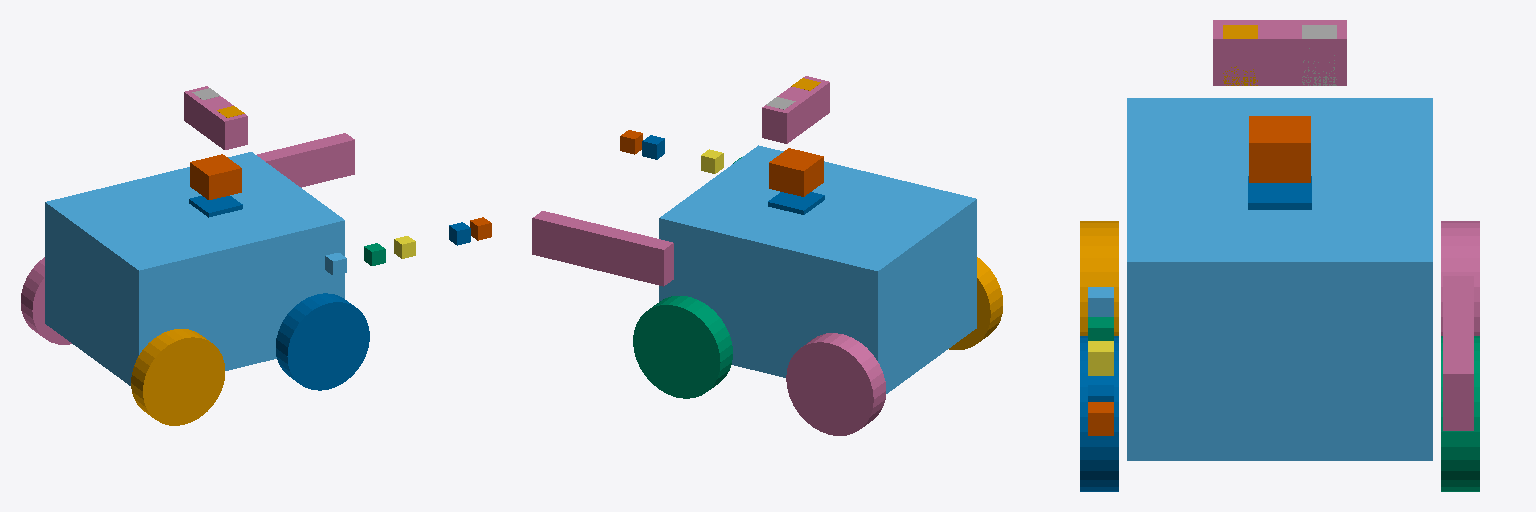
URDF robot description (ugv_01_geometry_concept):
<?xml version='1.0' encoding='utf-8'?>
<robot name="ugv_01_geometry_concept">
  <link name="base_link" />
  <link name="chassis">
    <visual>
      <geometry>
        <box size="0.3 0.236 0.169" />
      </geometry>
    </visual>
  </link>
  <joint name="chassis_joint" type="fixed">
    <parent link="base_link" />
    <child link="chassis" />
    <origin xyz="0.0 0.0 0.1255" />
  </joint>
  <link name="front_left_wheel">
    <visual>
      <origin rpy="1.5707963267948966 0 0" />
      <geometry>
        <cylinder radius="0.06" length="0.03" />
      </geometry>
    </visual>
  </link>
  <joint name="front_left_wheel_joint" type="continuous">
    <parent link="base_link" />
    <child link="front_left_wheel" />
    <origin xyz="0.105 0.139 0.06" />
    <axis xyz="0 1 0" />
  </joint>
  <link name="front_left_motor">
    <visual>
      <origin rpy="1.5707963267948966 0 0" />
      <geometry>
        <cylinder radius="0.0125" length="0.0678" />
      </geometry>
    </visual>
  </link>
  <joint name="front_left_motor_joint" type="fixed">
    <parent link="base_link" />
    <child link="front_left_motor" />
    <origin xyz="0.105 0.08009999999999999 0.06" />
  </joint>
  <link name="front_right_wheel">
    <visual>
      <origin rpy="1.5707963267948966 0 0" />
      <geometry>
        <cylinder radius="0.06" length="0.03" />
      </geometry>
    </visual>
  </link>
  <joint name="front_right_wheel_joint" type="continuous">
    <parent link="base_link" />
    <child link="front_right_wheel" />
    <origin xyz="0.105 -0.139 0.06" />
    <axis xyz="0 1 0" />
  </joint>
  <link name="front_right_motor">
    <visual>
      <origin rpy="1.5707963267948966 0 0" />
      <geometry>
        <cylinder radius="0.0125" length="0.0678" />
      </geometry>
    </visual>
  </link>
  <joint name="front_right_motor_joint" type="fixed">
    <parent link="base_link" />
    <child link="front_right_motor" />
    <origin xyz="0.105 -0.08009999999999999 0.06" />
  </joint>
  <link name="rear_left_wheel">
    <visual>
      <origin rpy="1.5707963267948966 0 0" />
      <geometry>
        <cylinder radius="0.06" length="0.03" />
      </geometry>
    </visual>
  </link>
  <joint name="rear_left_wheel_joint" type="continuous">
    <parent link="base_link" />
    <child link="rear_left_wheel" />
    <origin xyz="-0.105 0.139 0.06" />
    <axis xyz="0 1 0" />
  </joint>
  <link name="rear_left_motor">
    <visual>
      <origin rpy="1.5707963267948966 0 0" />
      <geometry>
        <cylinder radius="0.0125" length="0.0678" />
      </geometry>
    </visual>
  </link>
  <joint name="rear_left_motor_joint" type="fixed">
    <parent link="base_link" />
    <child link="rear_left_motor" />
    <origin xyz="-0.105 0.08009999999999999 0.06" />
  </joint>
  <link name="rear_right_wheel">
    <visual>
      <origin rpy="1.5707963267948966 0 0" />
      <geometry>
        <cylinder radius="0.06" length="0.03" />
      </geometry>
    </visual>
  </link>
  <joint name="rear_right_wheel_joint" type="continuous">
    <parent link="base_link" />
    <child link="rear_right_wheel" />
    <origin xyz="-0.105 -0.139 0.06" />
    <axis xyz="0 1 0" />
  </joint>
  <link name="rear_right_motor">
    <visual>
      <origin rpy="1.5707963267948966 0 0" />
      <geometry>
        <cylinder radius="0.0125" length="0.0678" />
      </geometry>
    </visual>
  </link>
  <joint name="rear_right_motor_joint" type="fixed">
    <parent link="base_link" />
    <child link="rear_right_motor" />
    <origin xyz="-0.105 -0.08009999999999999 0.06" />
  </joint>
  <link name="battery">
    <visual>
      <geometry>
        <box size="0.07 0.06 0.024" />
      </geometry>
    </visual>
  </link>
  <joint name="battery_joint" type="fixed">
    <parent link="base_link" />
    <child link="battery" />
    <origin xyz="-0.06 0.0 0.0535" />
  </joint>
  <link name="electronics">
    <visual>
      <geometry>
        <box size="0.1 0.076 0.025" />
      </geometry>
    </visual>
  </link>
  <joint name="electronics_joint" type="fixed">
    <parent link="base_link" />
    <child link="electronics" />
    <origin xyz="0.06 0.0 0.0615" />
  </joint>
  <link name="sensor_mast_mount">
    <visual>
      <geometry>
        <box size="0.05 0.05 0.006" />
      </geometry>
    </visual>
  </link>
  <joint name="sensor_mast_mount_joint" type="fixed">
    <parent link="base_link" />
    <child link="sensor_mast_mount" />
    <origin xyz="0.03 0.0 0.213" />
  </joint>
  <link name="head_pan">
    <visual>
      <geometry>
        <box size="0.048 0.048 0.034" />
      </geometry>
    </visual>
  </link>
  <joint name="head_pan_joint" type="revolute">
    <parent link="base_link" />
    <child link="head_pan" />
    <origin xyz="0.03 0.0 0.25" />
    <axis xyz="0 0 1" />
    <limit lower="-1.5708" upper="1.5708" effort="1" velocity="2" />
  </joint>
  <link name="head_tilt">
    <visual>
      <geometry>
        <box size="0.034 0.103 0.04" />
      </geometry>
    </visual>
  </link>
  <joint name="head_tilt_joint" type="revolute">
    <parent link="base_link" />
    <child link="head_tilt" />
    <origin xyz="0.03 0.0 0.332" />
    <axis xyz="0 1 0" />
    <limit lower="-0.5236" upper="1.0472" effort="1" velocity="2" />
  </joint>
  <link name="left_eye_camera">
    <visual>
      <geometry>
        <box size="0.026 0.027 0.0405" />
      </geometry>
    </visual>
  </link>
  <joint name="left_eye_camera_joint" type="fixed">
    <parent link="base_link" />
    <child link="left_eye_camera" />
    <origin xyz="0.034 0.0305 0.332" />
  </joint>
  <link name="right_eye_camera">
    <visual>
      <geometry>
        <box size="0.026 0.027 0.0405" />
      </geometry>
    </visual>
  </link>
  <joint name="right_eye_camera_joint" type="fixed">
    <parent link="base_link" />
    <child link="right_eye_camera" />
    <origin xyz="0.034 -0.0305 0.332" />
  </joint>
  <link name="right_shoulder">
    <visual>
      <geometry>
        <box size="0.02 0.02 0.02" />
      </geometry>
    </visual>
  </link>
  <joint name="right_shoulder_joint" type="revolute">
    <parent link="base_link" />
    <child link="right_shoulder" />
    <origin xyz="0.125 -0.138 0.163" />
    <axis xyz="0 1 0" />
    <limit lower="-0.7853981633974483" upper="3.141592653589793" effort="1" velocity="2" />
  </joint>
  <link name="right_twist">
    <visual>
      <geometry>
        <box size="0.02 0.02 0.02" />
      </geometry>
    </visual>
  </link>
  <joint name="right_twist_joint" type="revolute">
    <parent link="base_link" />
    <child link="right_twist" />
    <origin xyz="0.181 -0.138 0.163" />
    <axis xyz="1 0 0" />
    <limit lower="-1.3962634015954636" upper="1.5707963267948966" effort="1" velocity="2" />
  </joint>
  <link name="right_elbow">
    <visual>
      <geometry>
        <box size="0.02 0.02 0.02" />
      </geometry>
    </visual>
  </link>
  <joint name="right_elbow_joint" type="revolute">
    <parent link="base_link" />
    <child link="right_elbow" />
    <origin xyz="0.225 -0.138 0.163" />
    <axis xyz="0 1 0" />
    <limit lower="-0.5235987755982988" upper="2.356194490192345" effort="1" velocity="2" />
  </joint>
  <link name="right_wrist">
    <visual>
      <geometry>
        <box size="0.02 0.02 0.02" />
      </geometry>
    </visual>
  </link>
  <joint name="right_wrist_joint" type="revolute">
    <parent link="base_link" />
    <child link="right_wrist" />
    <origin xyz="0.305 -0.138 0.163" />
    <axis xyz="0 1 0" />
    <limit lower="-1.2217304763960306" upper="1.7453292519943295" effort="1" velocity="2" />
  </joint>
  <link name="right_roll">
    <visual>
      <geometry>
        <box size="0.02 0.02 0.02" />
      </geometry>
    </visual>
  </link>
  <joint name="right_roll_joint" type="revolute">
    <parent link="base_link" />
    <child link="right_roll" />
    <origin xyz="0.335 -0.138 0.163" />
    <axis xyz="1 0 0" />
    <limit lower="-1.4835298641951802" upper="1.4835298641951802" effort="1" velocity="2" />
  </joint>
  <link name="left_arm">
    <visual>
      <geometry>
        <box size="0.18 0.024 0.048" />
      </geometry>
    </visual>
  </link>
  <joint name="left_arm_joint" type="fixed">
    <parent link="base_link" />
    <child link="left_arm" />
    <origin xyz="0.215 0.138 0.163" />
  </joint>
</robot>

--- What the picture shows (computed from the rendered views, not written in the file) ---
The picture shows the robot from 3 angles, left to right: view 1: azimuth 30°, elevation 25°; view 2: azimuth 150°, elevation 25°; view 3: azimuth 270°, elevation 25°; orthographic projection.
Robot: ugv_01_geometry_concept — 23 links, 22 joints (7 revolute, 4 continuous, 11 fixed); root link base_link; default pose: every joint at zero.
Visible links, largest first — view 1: chassis, front_right_wheel, rear_right_wheel, left_arm, head_tilt, head_pan, rear_left_wheel, sensor_mast_mount; view 2: chassis, front_left_wheel, rear_left_wheel, left_arm, head_tilt, head_pan, rear_right_wheel, sensor_mast_mount; view 3: chassis, head_tilt, left_arm, head_pan, front_right_wheel, rear_right_wheel, front_left_wheel, rear_left_wheel, sensor_mast_mount, right_elbow, right_roll, right_shoulder (+3 smaller).
Link boxes in pixels (<box>): chassis: <box>45,152,344,385</box>; front_right_wheel: <box>276,293,369,390</box>; rear_right_wheel: <box>131,329,224,425</box>; left_arm: <box>257,133,354,187</box>; head_tilt: <box>184,86,247,149</box>; head_pan: <box>190,154,241,199</box>; rear_left_wheel: <box>21,257,71,344</box>; sensor_mast_mount: <box>189,196,242,217</box>; chassis: <box>659,145,976,393</box>; front_left_wheel: <box>633,296,732,398</box>; rear_left_wheel: <box>786,333,885,435</box>; left_arm: <box>532,211,673,286</box>; head_tilt: <box>762,76,829,143</box>; head_pan: <box>769,148,823,196</box>; rear_right_wheel: <box>949,257,1002,349</box>; sensor_mast_mount: <box>768,192,824,214</box>; chassis: <box>1127,98,1432,460</box>; head_tilt: <box>1213,20,1346,85</box>; left_arm: <box>1443,276,1473,430</box>; head_pan: <box>1249,116,1310,182</box>; front_right_wheel: <box>1080,336,1118,491</box>; rear_right_wheel: <box>1080,221,1118,335</box>; front_left_wheel: <box>1441,336,1479,491</box>; rear_left_wheel: <box>1441,221,1479,335</box>; sensor_mast_mount: <box>1248,176,1311,209</box>; right_elbow: <box>1088,341,1113,375</box>; right_roll: <box>1088,402,1113,435</box>; right_shoulder: <box>1088,287,1113,316</box>.
Size in the robot's own frame: 0.51 by 0.308 by 0.3523 metres.
Geometry: primitives only (box / cylinder / sphere), no mesh files.
